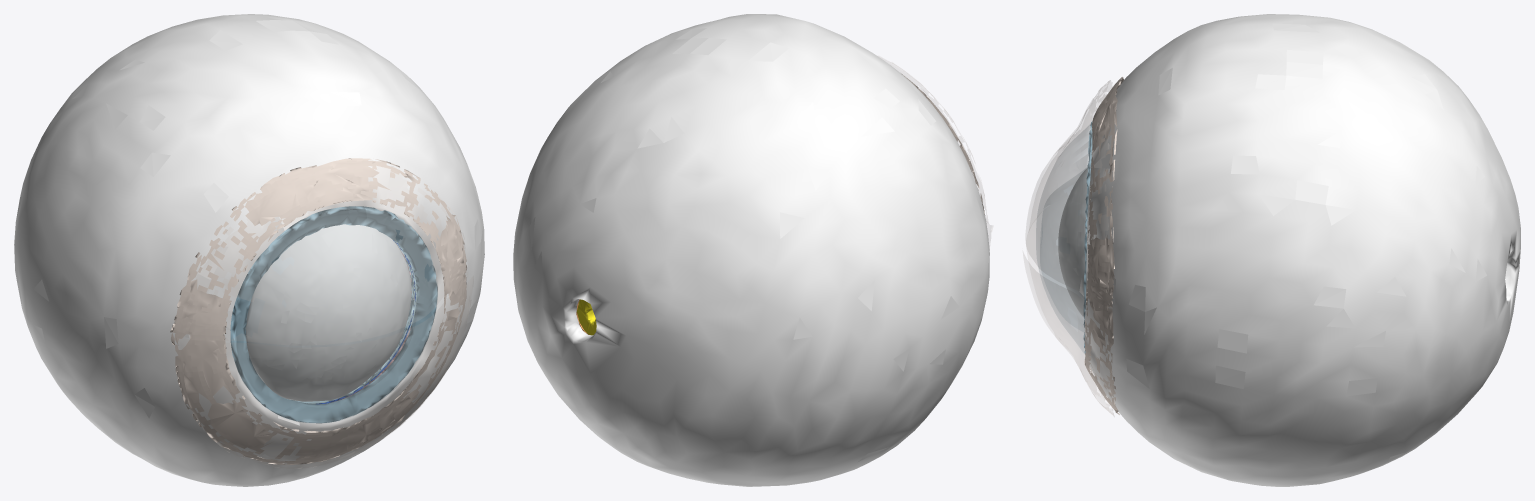
The model's file is 3d-vh-m-eye-r-40.glb.
The picture shows the model from 3 angles, left to right: view 1: azimuth 30°, elevation 25°; view 2: azimuth 150°, elevation 25°; view 3: azimuth 270°, elevation 25°; orthographic projection.
Parts seen in each view (by area): view 1: VH_M_sclera_R, VH_M_cornea_R, VH_M_palpebral_conjunctiva_of_upper_eyelid_R, VH_M_palpebral_conjunctiva_of_lower_eyelid_R, VH_M_bulbar_conjunctiva_R, VH_M_aqueous_humor_R, VH_M_corneo_scleral_junction_R, VH_M_trabecular_meshwork_R; view 2: VH_M_sclera_R, VH_M_palpebral_conjunctiva_of_upper_eyelid_R; view 3: VH_M_sclera_R, VH_M_palpebral_conjunctiva_of_upper_eyelid_R, VH_M_cornea_R, VH_M_bulbar_conjunctiva_R, VH_M_palpebral_conjunctiva_of_lower_eyelid_R, VH_M_aqueous_humor_R, VH_M_corneo_scleral_junction_R.
Boxes of the visible parts, left/top/right/bottom form: VH_M_sclera_R: left=14, top=14, right=484, bottom=486; VH_M_cornea_R: left=232, top=208, right=437, bottom=422; VH_M_palpebral_conjunctiva_of_upper_eyelid_R: left=177, top=162, right=467, bottom=344; VH_M_palpebral_conjunctiva_of_lower_eyelid_R: left=175, top=276, right=473, bottom=467; VH_M_bulbar_conjunctiva_R: left=170, top=158, right=466, bottom=464; VH_M_aqueous_humor_R: left=245, top=224, right=411, bottom=401; VH_M_corneo_scleral_junction_R: left=230, top=206, right=437, bottom=423; VH_M_trabecular_meshwork_R: left=288, top=241, right=416, bottom=403; VH_M_sclera_R: left=513, top=14, right=989, bottom=486; VH_M_palpebral_conjunctiva_of_upper_eyelid_R: left=878, top=56, right=987, bottom=221; VH_M_sclera_R: left=1084, top=14, right=1520, bottom=486; VH_M_palpebral_conjunctiva_of_upper_eyelid_R: left=1026, top=80, right=1111, bottom=307; VH_M_cornea_R: left=1036, top=125, right=1091, bottom=353; VH_M_bulbar_conjunctiva_R: left=1084, top=77, right=1124, bottom=414; VH_M_palpebral_conjunctiva_of_lower_eyelid_R: left=1023, top=221, right=1114, bottom=416; VH_M_aqueous_humor_R: left=1058, top=168, right=1087, bottom=317; VH_M_corneo_scleral_junction_R: left=1083, top=121, right=1092, bottom=352.
Size of the model in its own units: 0.0245 by 0.0244 by 0.0257.
